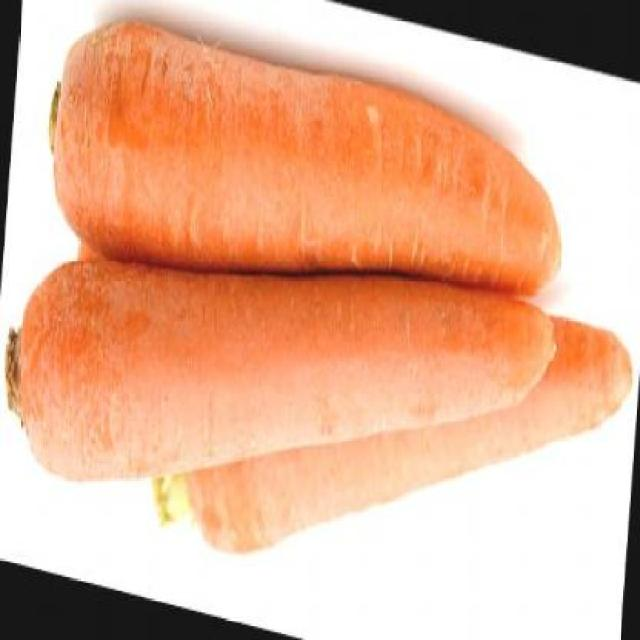carrot: (0, 158, 560, 604), (37, 0, 569, 374), (178, 220, 634, 638)
